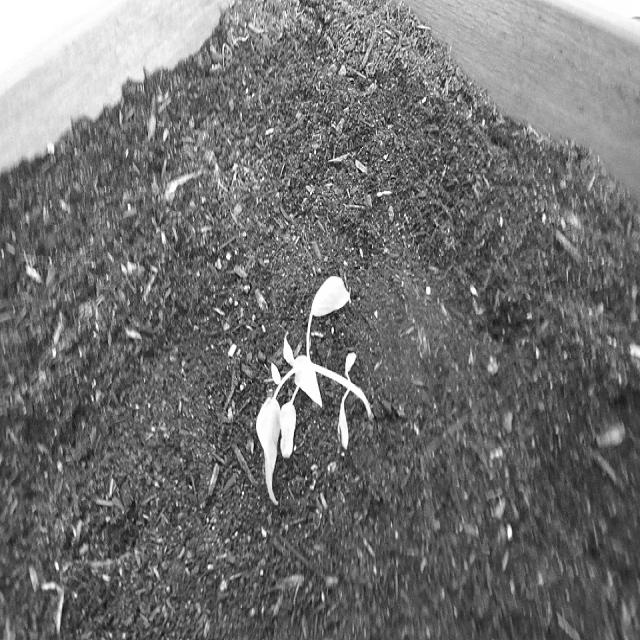Unhealthy: (240, 260, 388, 516)
